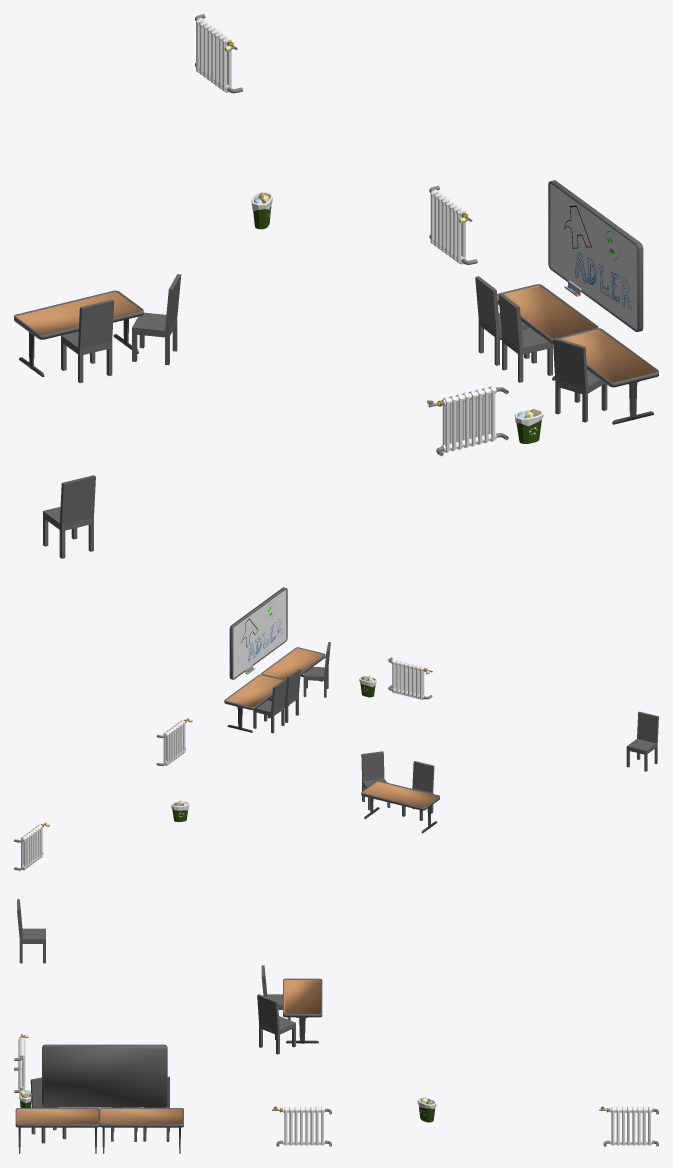
File: dLShape Sampleroom - Deko.glb
3 renders of one model, top to bottom at view 1: azimuth 30°, elevation 25°; view 2: azimuth 150°, elevation 25°; view 3: azimuth 270°, elevation 25°, orthographic. The views are drawn at different scales.
Visible parts, largest first — view 1: Cylinder.004; view 2: Cylinder.004; view 3: Cylinder.004.
Part boxes in pixels (left/top/right/bottom): Cylinder.004: left=14, top=14, right=658, bottom=558; Cylinder.004: left=14, top=587, right=658, bottom=870; Cylinder.004: left=14, top=899, right=658, bottom=1153.
Bounding box in the file's own units: 9.46 × 2.36 × 12.63.
Materials: 1 (1 with a texture image).
